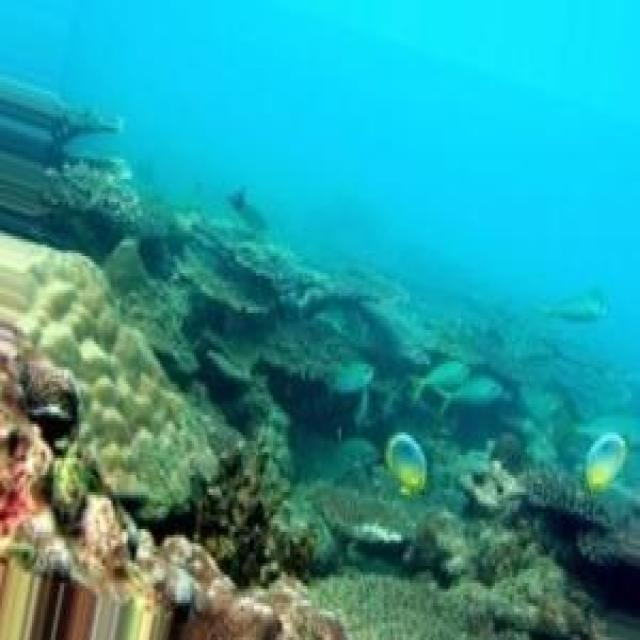bleached coral: (0, 239, 218, 518), (77, 498, 303, 640), (205, 472, 286, 577), (461, 458, 527, 512), (442, 575, 510, 606), (337, 521, 407, 543), (326, 609, 356, 637)
healthy coral: (183, 199, 380, 327), (102, 250, 228, 390), (254, 361, 375, 478), (365, 353, 499, 435), (450, 330, 574, 398), (58, 108, 134, 182)
